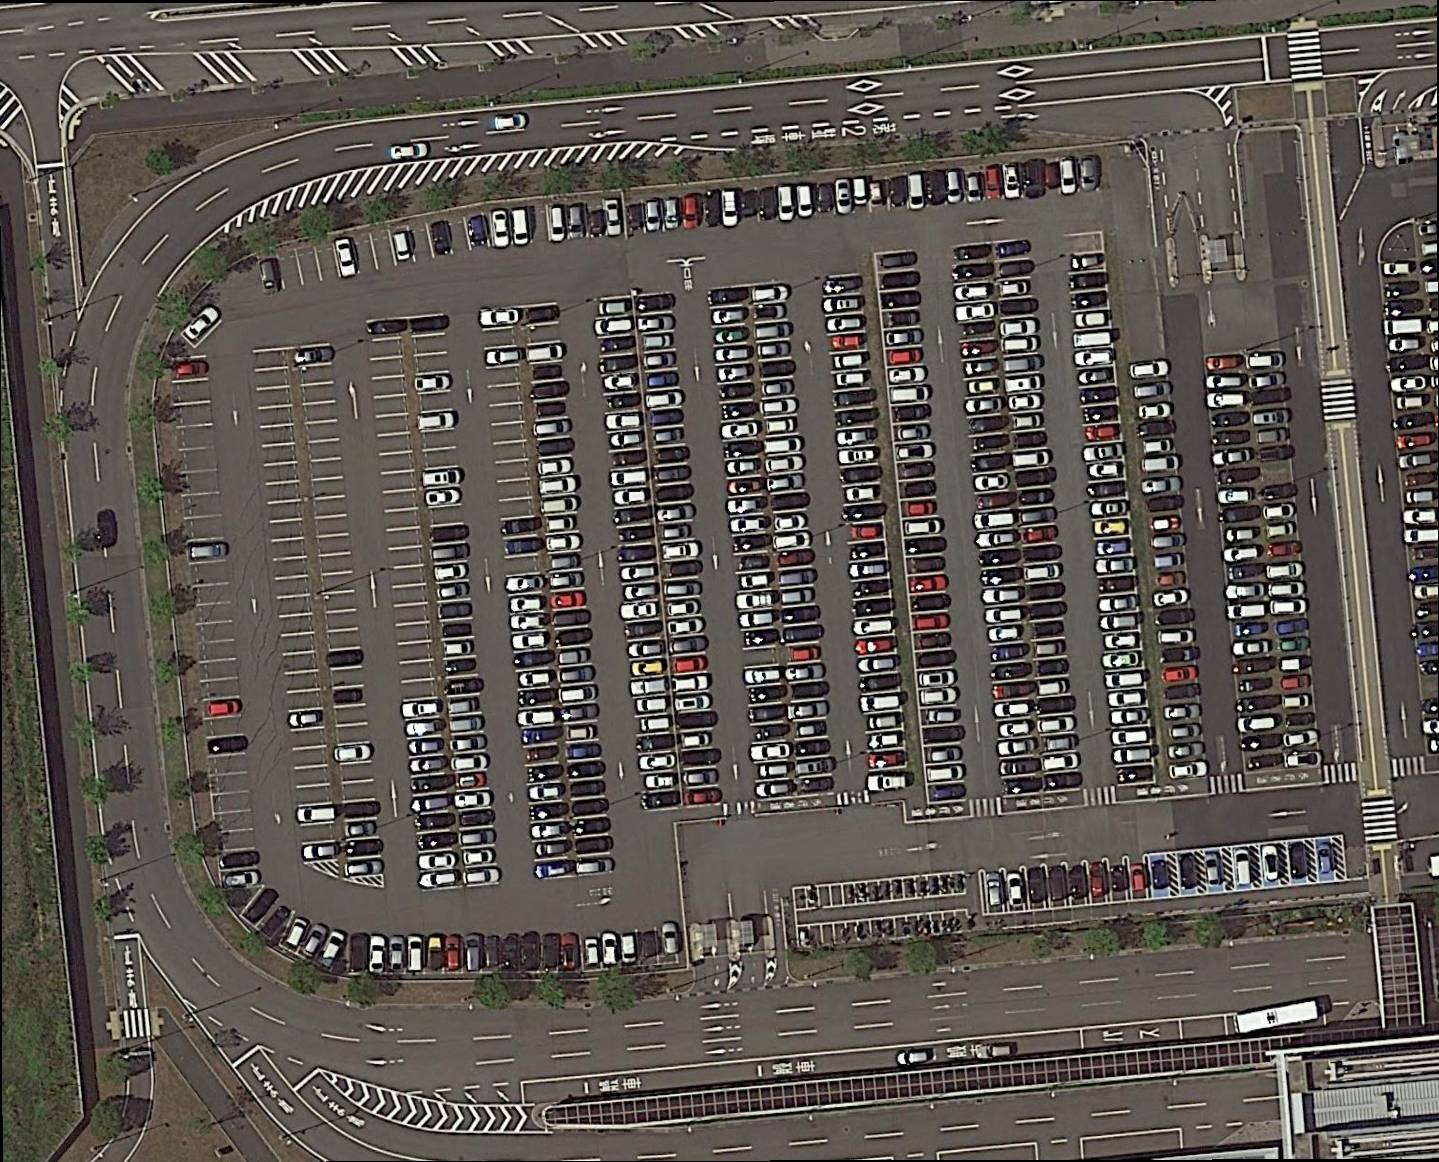large vehicle: (1237, 998, 1321, 1032)
small vehicle: (181, 304, 223, 343), (244, 886, 282, 924), (315, 929, 350, 969), (298, 922, 331, 961), (332, 235, 359, 280), (280, 915, 311, 953), (207, 732, 251, 757), (261, 903, 292, 938), (976, 565, 1024, 587), (826, 311, 869, 335), (657, 480, 698, 505), (679, 747, 723, 770), (785, 698, 828, 721), (653, 502, 697, 524), (953, 301, 997, 323), (410, 771, 450, 795), (841, 464, 886, 485), (763, 453, 805, 475), (707, 285, 749, 307), (414, 811, 456, 833), (343, 858, 387, 879), (793, 754, 835, 776), (1024, 581, 1068, 602), (975, 490, 1017, 512), (537, 435, 577, 458), (326, 648, 366, 671), (445, 676, 485, 699), (867, 749, 907, 772), (1016, 466, 1056, 489), (557, 624, 595, 648), (416, 831, 459, 852), (1082, 443, 1125, 464), (525, 343, 566, 365), (925, 763, 966, 785), (952, 242, 993, 264), (1095, 556, 1136, 578), (853, 579, 894, 601), (535, 475, 580, 495), (831, 388, 876, 408), (853, 617, 898, 637), (1066, 866, 1090, 903), (726, 496, 768, 517), (573, 856, 615, 877), (388, 142, 430, 163), (367, 317, 409, 338), (188, 540, 230, 561), (515, 648, 557, 669), (670, 672, 712, 693), (992, 661, 1034, 682), (1149, 587, 1191, 608), (733, 532, 773, 554), (614, 504, 654, 526), (422, 486, 462, 508), (1165, 761, 1209, 781), (1098, 575, 1138, 597), (851, 598, 895, 618), (1025, 601, 1069, 621), (972, 511, 1016, 531), (654, 444, 692, 467), (461, 935, 484, 973), (558, 934, 581, 972), (205, 697, 243, 720), (640, 790, 678, 813), (420, 467, 461, 488), (661, 540, 702, 561), (460, 866, 501, 887), (574, 835, 615, 856), (220, 849, 261, 870), (557, 685, 598, 706), (1040, 753, 1081, 774), (997, 737, 1038, 758), (969, 415, 1010, 436), (1022, 562, 1063, 583), (1088, 479, 1129, 500), (1132, 380, 1173, 401), (345, 839, 388, 859), (517, 687, 560, 707), (622, 620, 665, 640), (860, 693, 903, 713), (1127, 360, 1170, 380), (537, 456, 576, 478), (509, 631, 548, 653), (410, 755, 449, 777), (1097, 595, 1142, 614), (651, 465, 693, 485), (504, 536, 544, 557), (724, 438, 764, 459), (721, 186, 741, 228), (642, 389, 684, 409), (526, 303, 561, 327), (417, 869, 457, 890), (296, 805, 338, 825), (625, 639, 667, 659), (748, 742, 790, 762), (1040, 733, 1080, 754), (918, 685, 958, 706), (1159, 645, 1201, 665), (1234, 655, 1274, 676), (823, 276, 863, 297), (1021, 543, 1063, 563), (1155, 607, 1195, 628), (553, 607, 591, 629), (605, 196, 624, 240), (681, 194, 703, 232), (520, 933, 542, 971), (523, 725, 561, 747), (400, 699, 444, 718), (996, 757, 1040, 776), (952, 263, 996, 282), (1023, 524, 1061, 546), (532, 419, 573, 439), (762, 435, 803, 455), (719, 421, 760, 441), (529, 820, 570, 840), (368, 935, 388, 976), (628, 677, 669, 697), (1236, 693, 1277, 713), (782, 623, 821, 644), (834, 177, 855, 216), (636, 751, 675, 772), (406, 716, 445, 737), (931, 783, 970, 804), (861, 673, 900, 694), (1212, 409, 1251, 430), (1251, 387, 1290, 408), (1245, 351, 1284, 372), (851, 560, 890, 581), (1102, 670, 1145, 689), (982, 587, 1025, 606), (1139, 475, 1182, 494), (287, 709, 324, 731), (750, 684, 787, 706), (1072, 349, 1117, 367), (431, 542, 471, 562), (485, 347, 525, 367), (302, 843, 342, 863), (747, 706, 787, 726), (906, 170, 926, 210), (786, 662, 826, 682), (1049, 863, 1069, 903), (1211, 447, 1251, 467), (1281, 729, 1321, 749), (898, 462, 938, 482), (765, 473, 807, 492), (508, 592, 546, 613), (751, 284, 789, 305), (531, 381, 573, 400), (573, 815, 611, 836), (294, 346, 332, 367), (331, 743, 373, 762), (343, 800, 381, 821), (224, 869, 262, 890), (518, 709, 560, 728), (413, 794, 451, 815), (449, 754, 491, 773), (1164, 681, 1202, 702), (971, 434, 1009, 455), (971, 453, 1009, 474), (1016, 507, 1058, 526), (726, 515, 770, 533), (666, 637, 710, 655), (526, 741, 562, 763), (997, 237, 1033, 259), (978, 548, 1022, 566), (391, 229, 414, 263), (530, 801, 569, 821), (672, 692, 711, 712), (857, 656, 896, 676), (1037, 695, 1076, 715), (880, 251, 919, 271), (1136, 418, 1175, 438), (845, 503, 884, 523), (909, 574, 948, 594), (603, 411, 644, 430), (410, 315, 451, 334), (533, 860, 574, 879), (1028, 866, 1047, 907), (822, 295, 863, 314), (977, 530, 1018, 549), (906, 537, 947, 556), (784, 605, 821, 626), (714, 325, 751, 346), (659, 195, 680, 232), (595, 317, 632, 338), (260, 259, 281, 296), (1244, 732, 1281, 753), (1266, 560, 1303, 581), (1095, 537, 1132, 558), (867, 773, 910, 791), (431, 221, 453, 256), (609, 468, 647, 488), (539, 496, 579, 515), (774, 530, 812, 550), (431, 524, 469, 544), (776, 587, 816, 606), (778, 568, 816, 588), (567, 203, 587, 241), (703, 190, 723, 228), (753, 322, 791, 342), (668, 559, 708, 578), (387, 936, 407, 974), (744, 667, 784, 686), (925, 170, 945, 208), (1006, 777, 1046, 796), (1111, 728, 1151, 747), (1163, 702, 1203, 721), (1070, 291, 1108, 311), (965, 396, 1003, 416), (882, 291, 920, 311), (616, 545, 658, 563), (505, 574, 547, 592), (442, 936, 463, 972), (994, 680, 1030, 701), (1034, 677, 1070, 698), (1275, 616, 1311, 637), (1229, 561, 1265, 582), (999, 258, 1035, 279), (652, 426, 686, 448), (415, 412, 454, 431), (412, 374, 451, 393), (636, 314, 675, 333), (755, 781, 794, 800), (1101, 650, 1140, 669), (1236, 716, 1275, 735), (1231, 639, 1270, 658), (1266, 580, 1305, 599), (990, 644, 1029, 663), (962, 340, 1001, 359), (1090, 500, 1129, 519), (910, 593, 949, 612), (902, 518, 941, 537), (502, 517, 539, 537), (431, 563, 468, 583), (666, 598, 703, 618), (568, 759, 605, 779), (1168, 741, 1205, 761), (794, 739, 831, 759), (1088, 863, 1108, 900), (1160, 664, 1197, 684), (1113, 707, 1150, 727), (1258, 444, 1295, 464), (1397, 411, 1434, 431), (1385, 317, 1422, 337), (619, 601, 660, 619), (555, 667, 596, 685), (1112, 747, 1153, 765), (1002, 355, 1043, 373), (997, 317, 1038, 335), (542, 514, 577, 535), (744, 629, 779, 650), (760, 416, 795, 437), (457, 789, 492, 810), (1238, 675, 1273, 696), (1084, 404, 1119, 425), (1086, 423, 1121, 444), (677, 712, 720, 729), (465, 215, 487, 248), (544, 533, 582, 552), (419, 851, 457, 870), (640, 732, 678, 751), (924, 745, 962, 764), (1106, 690, 1144, 709), (1252, 408, 1290, 427), (1178, 853, 1197, 891), (893, 404, 931, 423), (549, 570, 585, 590), (603, 373, 639, 393), (462, 848, 498, 868), (459, 809, 495, 829), (560, 703, 600, 721), (919, 649, 955, 669), (916, 668, 956, 686), (1223, 505, 1259, 525), (1205, 391, 1245, 409), (1397, 431, 1433, 451), (1283, 751, 1323, 769), (1227, 603, 1267, 621), (1225, 582, 1265, 600), (1074, 331, 1114, 349), (837, 409, 877, 427), (895, 423, 931, 443), (884, 328, 924, 346), (1013, 450, 1049, 470), (984, 608, 1024, 626), (1081, 385, 1117, 405), (426, 937, 447, 971), (570, 779, 604, 800), (685, 767, 719, 788), (1070, 252, 1104, 273), (883, 273, 925, 290), (997, 279, 1031, 300), (438, 581, 470, 603), (777, 549, 814, 568), (586, 201, 605, 238), (760, 398, 797, 417), (717, 365, 754, 384), (542, 934, 561, 971), (686, 789, 723, 808), (448, 716, 485, 735), (444, 697, 481, 716), (963, 359, 1000, 378), (838, 427, 875, 446), (1150, 532, 1187, 551), (1137, 402, 1174, 421), (726, 478, 765, 496), (777, 184, 795, 223), (350, 934, 368, 973), (448, 734, 487, 752), (796, 777, 835, 795), (790, 681, 829, 699), (1037, 715, 1076, 733), (1070, 273, 1109, 291), (998, 299, 1037, 317), (887, 347, 926, 365), (1140, 454, 1179, 472), (658, 522, 693, 542), (502, 936, 522, 971), (573, 797, 608, 817), (1109, 866, 1129, 901), (1219, 466, 1254, 486), (988, 625, 1023, 645), (1144, 496, 1185, 513), (793, 720, 826, 741), (1208, 354, 1241, 375), (852, 541, 885, 562), (773, 493, 811, 511), (620, 563, 656, 582), (511, 613, 549, 631), (624, 582, 660, 601), (889, 172, 908, 208), (716, 346, 752, 365), (758, 360, 796, 378), (406, 936, 425, 972), (459, 828, 495, 847), (409, 737, 445, 756), (994, 700, 1030, 719), (1250, 371, 1286, 390), (1388, 356, 1424, 375), (1234, 848, 1252, 886), (1262, 846, 1280, 884), (915, 632, 951, 651), (895, 444, 933, 462), (1027, 161, 1045, 199), (773, 513, 807, 533), (607, 392, 641, 412), (1048, 772, 1082, 792), (1256, 426, 1290, 446), (855, 639, 895, 656), (618, 525, 655, 543), (760, 185, 778, 222), (601, 356, 638, 374), (722, 403, 759, 421), (526, 766, 563, 784), (1385, 281, 1420, 300), (1261, 502, 1296, 521), (1204, 854, 1223, 889), (1079, 156, 1098, 191), (831, 334, 866, 353), (512, 208, 529, 247), (1290, 843, 1307, 882), (838, 448, 877, 465), (907, 558, 946, 575), (612, 430, 645, 450), (603, 336, 636, 356), (984, 872, 1004, 905), (1014, 430, 1047, 450), (1003, 375, 1044, 391), (661, 924, 682, 955), (438, 602, 474, 620), (797, 183, 815, 219), (650, 410, 686, 428), (482, 935, 500, 971), (599, 933, 617, 969), (946, 168, 964, 204), (1008, 871, 1026, 907), (1399, 452, 1435, 470), (1391, 376, 1427, 394), (1093, 520, 1129, 538), (1088, 461, 1124, 479), (551, 591, 589, 608), (535, 840, 569, 859), (344, 821, 378, 840), (558, 648, 592, 667), (635, 696, 669, 715), (529, 783, 563, 802), (1000, 721, 1034, 740), (1263, 483, 1297, 502), (1385, 300, 1423, 317), (1249, 753, 1283, 772), (1269, 599, 1307, 616), (1004, 162, 1021, 200), (833, 352, 867, 371), (493, 209, 509, 249), (614, 489, 649, 507), (645, 199, 663, 234), (755, 342, 790, 360), (719, 383, 754, 401), (453, 772, 488, 790), (1129, 865, 1147, 900), (1168, 723, 1203, 741), (1007, 394, 1042, 412), (974, 474, 1009, 492), (611, 450, 648, 467), (565, 742, 602, 759), (1222, 546, 1259, 563), (986, 164, 1003, 201), (632, 658, 665, 677), (675, 656, 708, 675), (1119, 766, 1152, 785), (1404, 507, 1437, 526), (1264, 521, 1297, 540), (1280, 655, 1313, 674), (1148, 516, 1181, 535), (1157, 629, 1196, 645), (890, 386, 929, 402), (887, 368, 926, 384), (1150, 862, 1170, 893), (740, 611, 774, 629), (760, 380, 794, 398), (754, 724, 790, 741), (1105, 632, 1139, 650), (1276, 635, 1310, 653), (1079, 368, 1113, 386), (849, 522, 883, 540), (737, 592, 772, 609), (646, 372, 681, 389), (518, 670, 553, 687), (1003, 335, 1038, 352), (851, 175, 869, 208), (1219, 488, 1252, 506), (1268, 541, 1301, 559), (1020, 488, 1053, 506), (1034, 641, 1065, 660), (1034, 621, 1065, 640), (663, 581, 705, 595), (667, 618, 706, 633), (926, 726, 965, 741), (913, 615, 952, 630), (751, 305, 785, 322), (644, 353, 678, 370), (1234, 621, 1268, 638), (886, 310, 920, 327), (955, 285, 989, 302), (726, 458, 758, 476), (740, 572, 772, 590), (173, 361, 209, 377), (645, 772, 677, 790), (1100, 615, 1136, 631), (1208, 374, 1244, 390), (906, 481, 938, 499), (1061, 158, 1077, 194), (549, 555, 582, 572), (714, 309, 747, 326), (817, 183, 834, 216), (536, 401, 569, 418), (639, 716, 672, 733), (1140, 438, 1173, 455), (925, 708, 960, 724), (741, 555, 772, 573), (870, 713, 901, 731), (1407, 470, 1436, 489), (847, 485, 876, 504), (551, 205, 565, 244), (628, 202, 644, 236), (563, 725, 597, 741), (440, 640, 474, 656), (1215, 430, 1247, 447), (1317, 843, 1333, 877), (1287, 711, 1319, 728), (834, 372, 866, 389), (962, 321, 994, 338), (1156, 571, 1188, 588), (1226, 527, 1256, 545), (787, 645, 818, 662), (534, 364, 565, 381), (643, 334, 674, 351), (447, 658, 478, 675), (1075, 312, 1106, 329), (871, 732, 900, 750), (968, 378, 997, 396), (758, 762, 788, 779), (334, 687, 362, 705), (967, 172, 983, 203), (1154, 553, 1185, 569), (742, 187, 757, 220), (1010, 414, 1043, 429), (868, 179, 885, 208), (584, 939, 600, 969), (1281, 694, 1311, 710), (639, 932, 656, 960), (1397, 394, 1425, 411), (680, 731, 711, 746), (1391, 337, 1420, 353), (1039, 660, 1067, 676), (621, 935, 636, 964), (1281, 675, 1310, 690), (1045, 162, 1060, 191), (442, 624, 472, 638), (908, 500, 936, 515), (1407, 489, 1433, 505), (1385, 261, 1411, 276)
